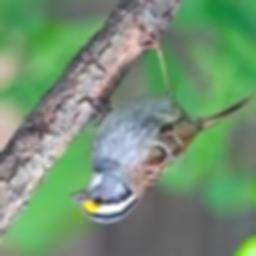Sparrow: (71, 26, 256, 224)
